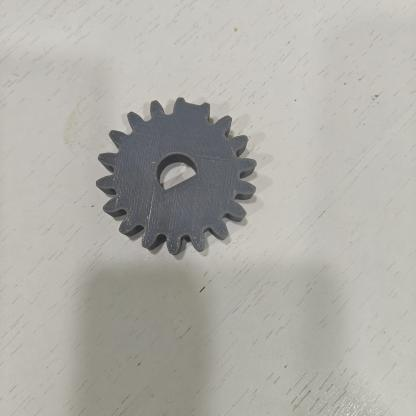defect: (150, 163, 202, 199), (170, 95, 213, 126)
gear: (84, 95, 278, 264)
